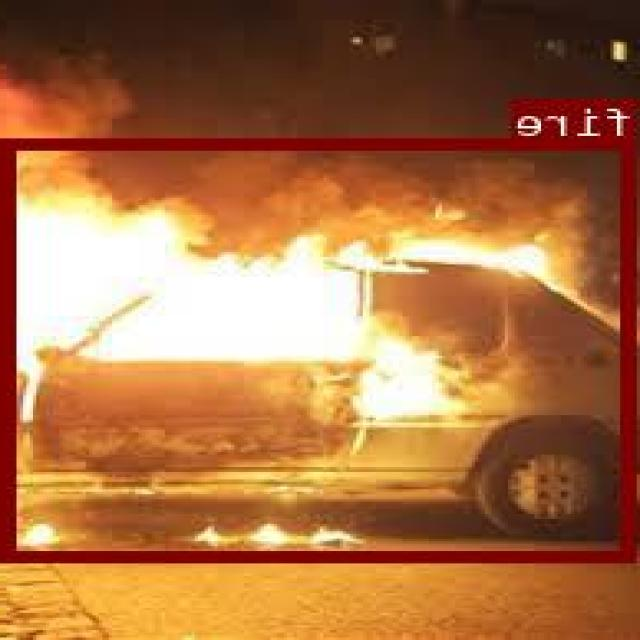fire: (6, 137, 637, 558)
